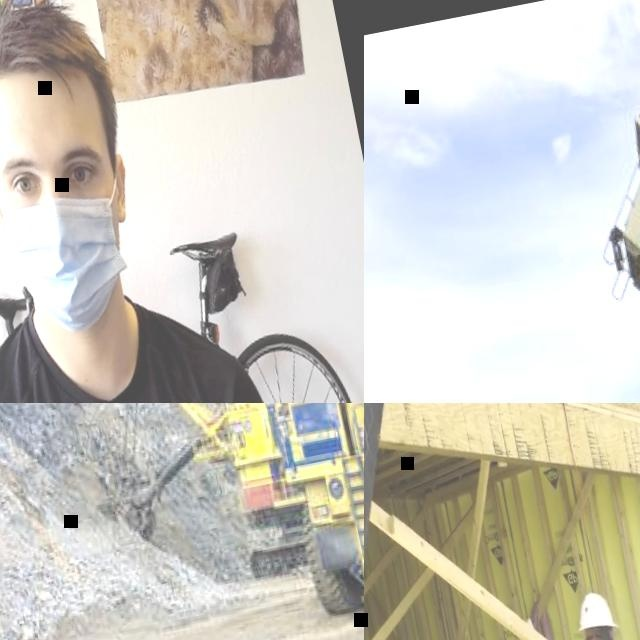Hardhat: (569, 589, 619, 639)
Mask: (0, 156, 155, 345)
NO-Hardhat: (0, 0, 110, 98)
NO-Safety Vest: (0, 282, 282, 403)
Person: (0, 0, 317, 403)
machinery: (386, 55, 640, 403), (70, 403, 324, 605), (261, 403, 364, 617)
